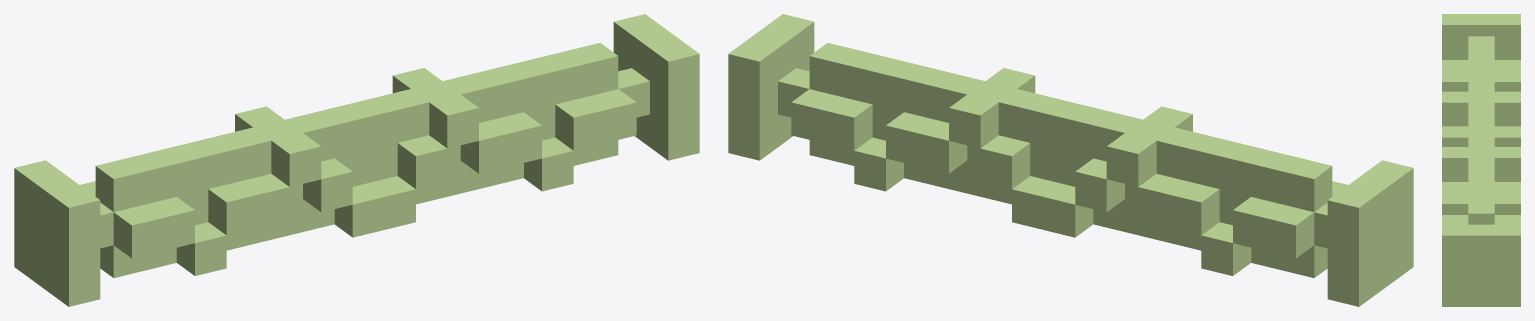
Rendered from Hunter_09.fbx.
3 renders of one model, left to right at view 1: azimuth 30°, elevation 25°; view 2: azimuth 150°, elevation 25°; view 3: azimuth 270°, elevation 25°, orthographic. The views are drawn at different scales.
Visible parts, largest first — view 1: Hunter_09; view 2: Hunter_09; view 3: Hunter_09.
Part boxes in pixels (x1,y1,x2,y2): Hunter_09: (14, 14, 699, 306); Hunter_09: (728, 14, 1413, 306); Hunter_09: (1442, 14, 1520, 306).
Size of the model in its own units: 2000 by 300 by 300.
